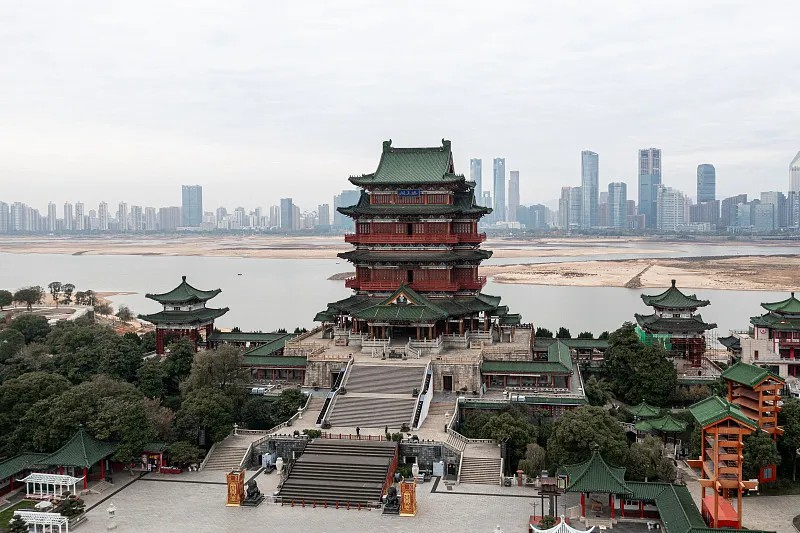Teng: (313, 138, 523, 349)
